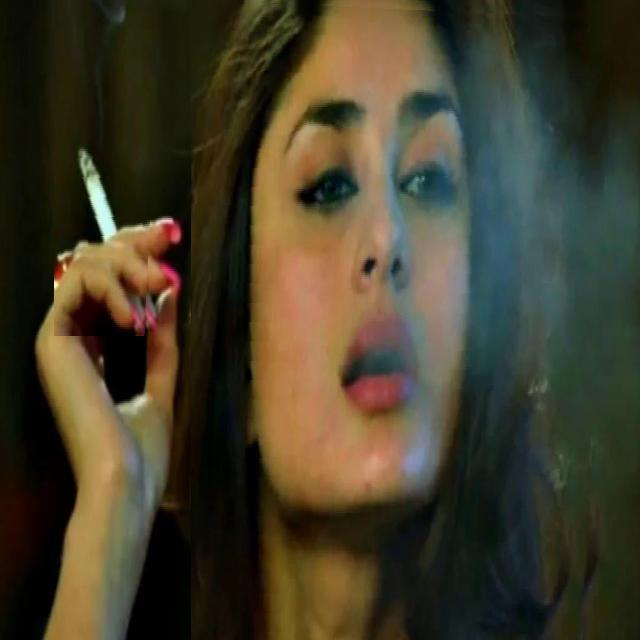cigarette: (54, 108, 156, 336)
